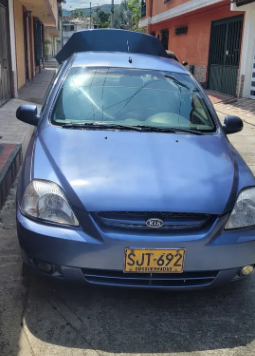placa: (124, 246, 185, 274)
